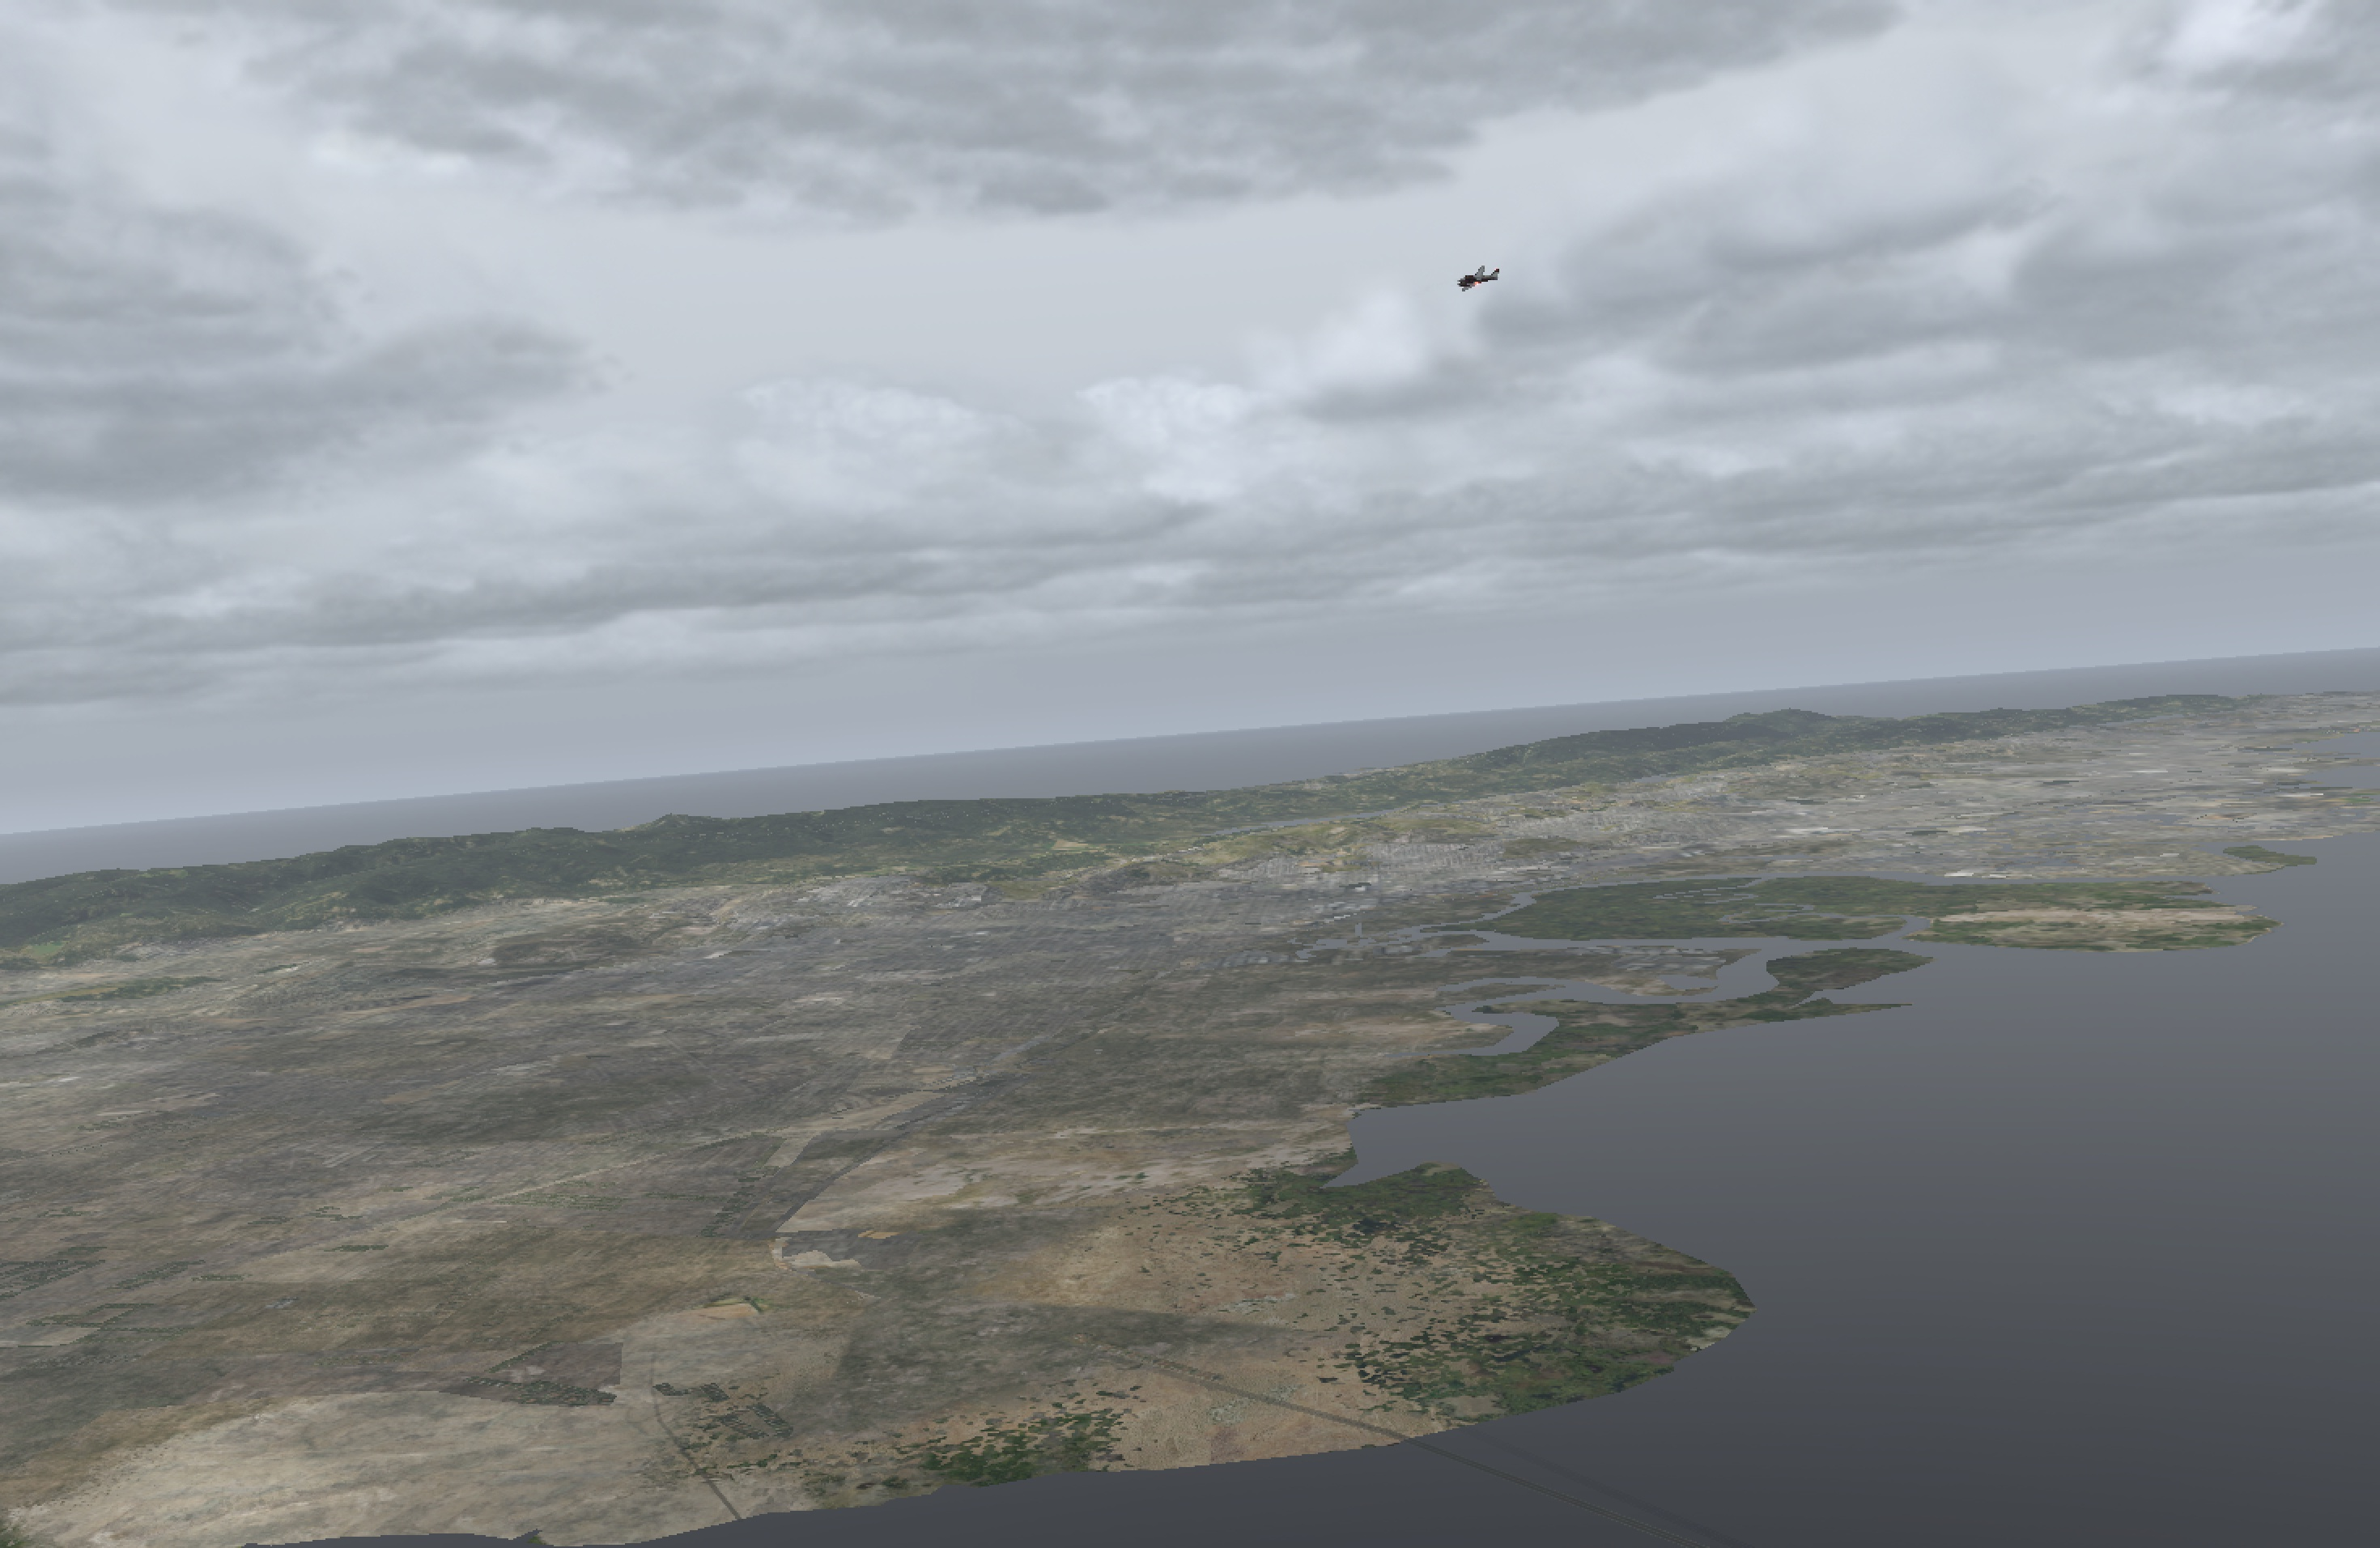aircraft: (1440, 271, 1504, 293)
